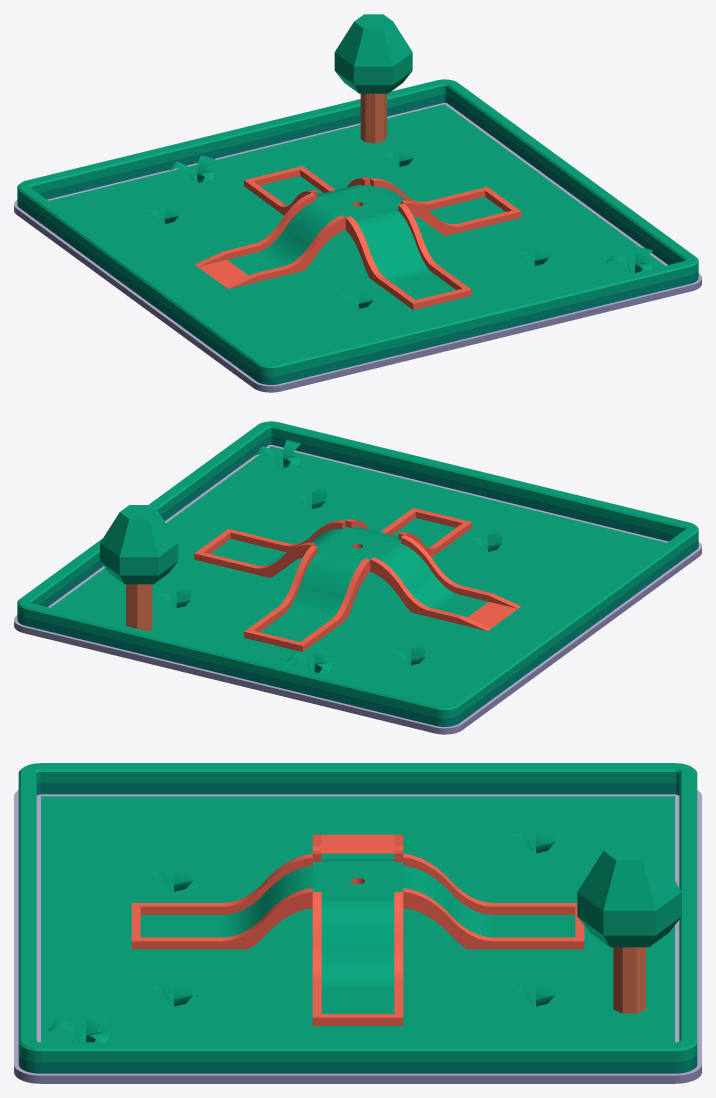
File: CrossGolf.glb
The picture shows the model from 3 angles, top to bottom: view 1: azimuth 30°, elevation 25°; view 2: azimuth 150°, elevation 25°; view 3: azimuth 270°, elevation 25°; orthographic projection. The views are drawn at different scales.
Parts seen in each view (by area): view 1: mergedBlocks(Clone); view 2: mergedBlocks(Clone); view 3: mergedBlocks(Clone).
Part boxes in pixels (x1,y1,x2,y2): mergedBlocks(Clone): [14, 14, 701, 392]; mergedBlocks(Clone): [14, 421, 701, 734]; mergedBlocks(Clone): [14, 763, 701, 1083].
Bounding box in the file's own units: 7.6 × 2 × 7.6.
1 material, 1 textured.
